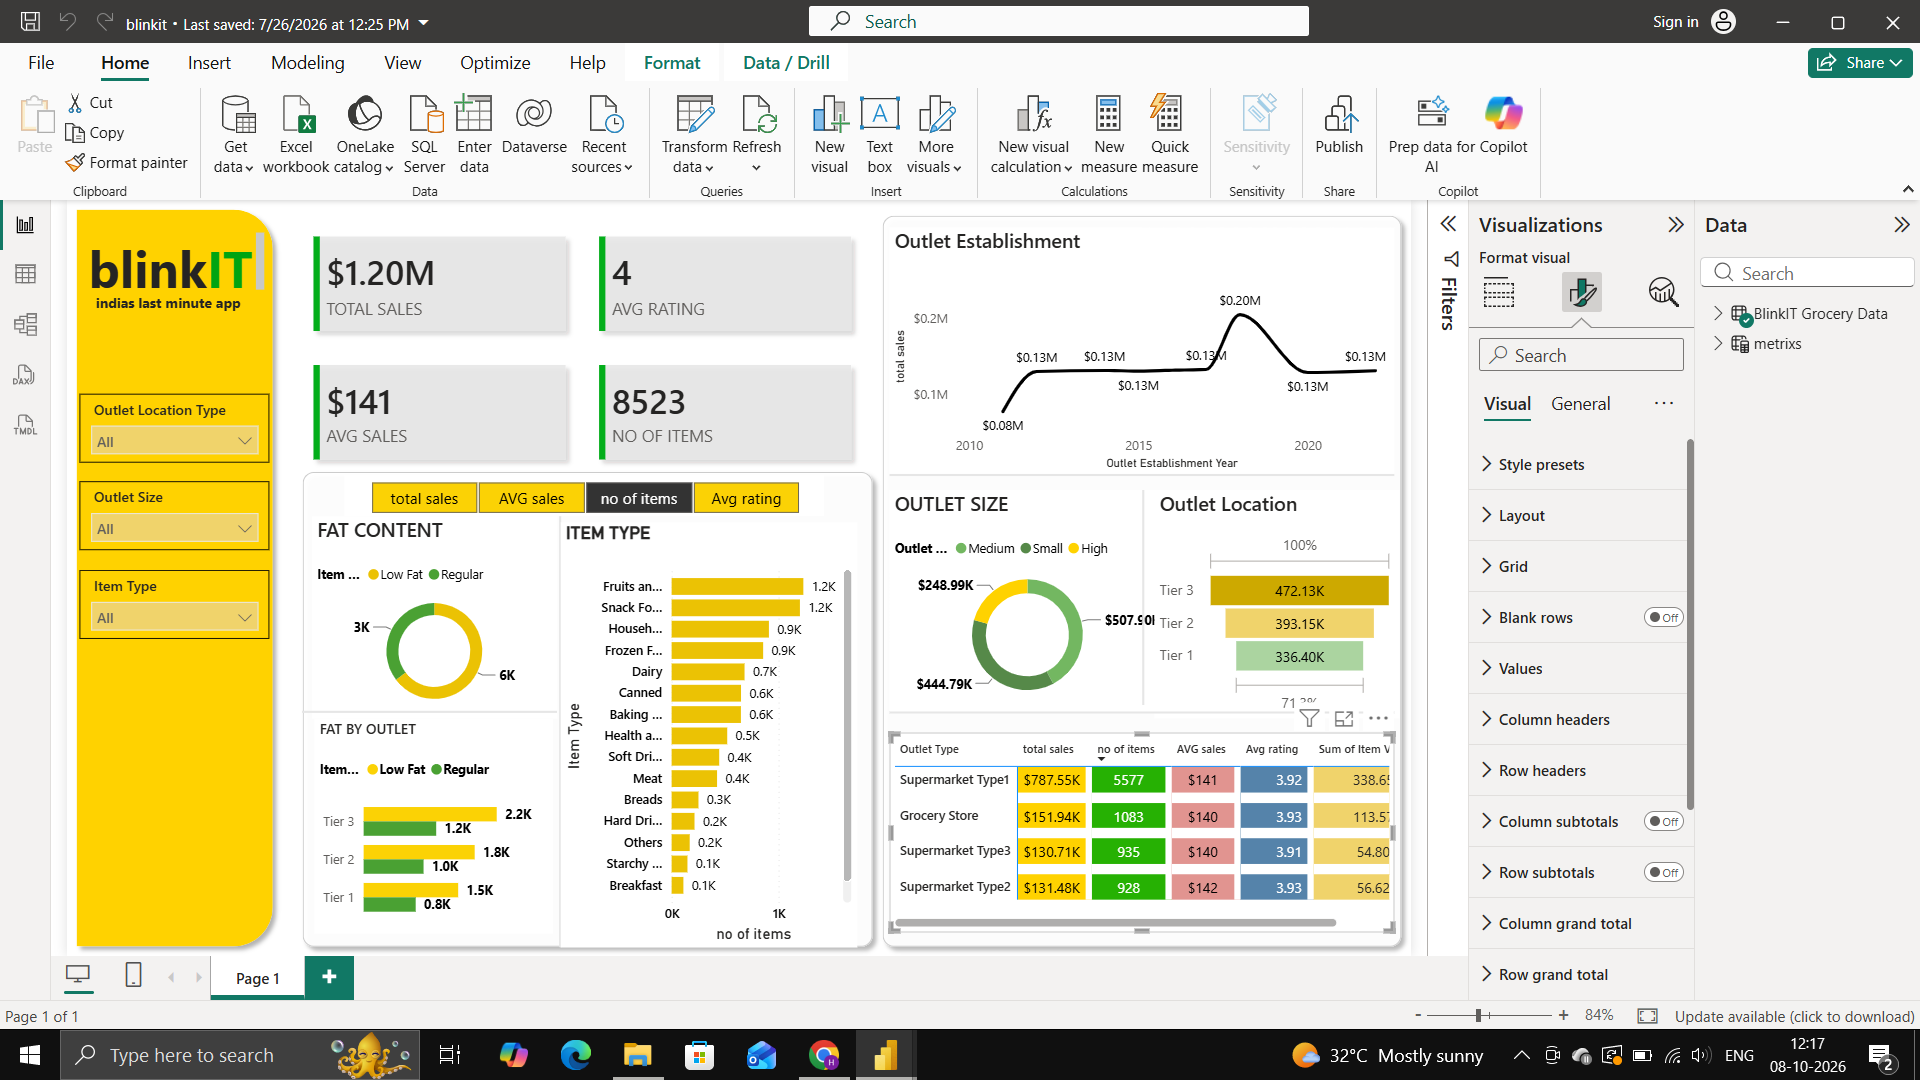

Layout of this report page (visuals, bound fields, positions):
{"tool":"powerbi","page":{"name":"Page 1","canvas":[1280,720],"ordinal":0},"visuals":[{"type":"shape","box":[0,0,205,720],"z":0},{"type":"textbox","box":[261.9,636.9,229.8,83.3],"z":1000},{"type":"textbox","box":[261.9,432.1,229.8,204.8],"z":2000},{"type":"textbox","box":[11.9,26.2,181,69],"z":3000},{"type":"textbox","box":[0,83.3,192.9,57.1],"z":4000},{"type":"cardVisual","fields":{"Data":["BlinkIT Grocery Data.total sales","BlinkIT Grocery Data.Avg rating","BlinkIT Grocery Data.AVG sales","BlinkIT Grocery Data.no of items"]},"box":[206,6,570,270],"z":5000},{"type":"shape","box":[215.5,250,560.7,470.2],"z":6000},{"type":"donutChart","title":"FAT CONTENT","fields":{"Y":["BlinkIT Grocery Data.no of items"],"Category":["BlinkIT Grocery Data.Item Fat Content"]},"box":[233.3,301.2,233.3,192.9],"z":7000},{"type":"slicer","fields":{"Values":["metrixs.metrixs"]},"box":[264.3,261.9,457.1,39.3],"z":8000},{"type":"clusteredBarChart","title":"FAT BY OUTLET","fields":{"Y":["BlinkIT Grocery Data.no of items"],"Category":["BlinkIT Grocery Data.Outlet Location Type"],"Series":["BlinkIT Grocery Data.Item Fat Content"]},"box":[235.7,494.1,227.4,204.8],"z":9000},{"type":"shape","box":[223.8,481,242.9,13.1],"z":10000},{"type":"shape","box":[458.3,301.2,22.6,410.7],"z":11000},{"type":"barChart","title":"ITEM TYPE","fields":{"Y":["BlinkIT Grocery Data.no of items"],"Category":["BlinkIT Grocery Data.Item Type"]},"box":[470.2,307.1,282.1,404.8],"z":12000},{"type":"shape","box":[767.9,6,511.9,714.3],"z":13000},{"type":"lineChart","title":" Outlet Establishment","fields":{"Category":["BlinkIT Grocery Data.Outlet Establishment Year"],"Y":["BlinkIT Grocery Data.total sales"]},"box":[783.3,26.2,481,235.7],"z":14000},{"type":"donutChart","title":"OUTLET SIZE","fields":{"Y":["BlinkIT Grocery Data.total sales"],"Category":["BlinkIT Grocery Data.Outlet Size"]},"box":[783.3,276.2,263.1,211.9],"z":15000},{"type":"shape","box":[1014.3,276.2,21.4,204.8],"z":16000},{"type":"funnel","title":" Outlet Location ","fields":{"Category":["BlinkIT Grocery Data.Outlet Location Type"],"Y":["Sum(BlinkIT Grocery Data.Sales)"]},"box":[1035.7,276.2,233.3,217.9],"z":17000},{"type":"shape","box":[783.3,233.3,481,57.1],"z":18000},{"type":"shape","box":[783.3,459.5,481,57.1],"z":19000},{"type":"pivotTable","fields":{"Rows":["BlinkIT Grocery Data.Outlet Type"],"Values":["BlinkIT Grocery Data.total sales","BlinkIT Grocery Data.no of items","BlinkIT Grocery Data.AVG sales","BlinkIT Grocery Data.Avg rating","Sum(BlinkIT Grocery Data.Item Visibility)"]},"box":[783.3,507.1,481,190.5],"z":20000},{"type":"slicer","fields":{"Values":["BlinkIT Grocery Data.Outlet Location Type"]},"box":[11.9,184.5,181,65.5],"z":21000},{"type":"slicer","fields":{"Values":["BlinkIT Grocery Data.Outlet Size"]},"box":[11.9,267.9,181,65.5],"z":22000},{"type":"slicer","fields":{"Values":["BlinkIT Grocery Data.Item Type"]},"box":[11.9,352.4,181,65.5],"z":23000}]}

Visuals, with their boxes on the page's 1280x720 design canvas (x1, y1, x2, y2). These are canvas units, not pixel positions in the 1920x1080 screenshot, which may show the page scaled, cropped or inside an application window:
shape: 0:0:205:720
textbox: 262:637:492:720
textbox: 262:432:492:637
textbox: 12:26:193:95
textbox: 0:83:193:140
cardVisual - BlinkIT Grocery Data.total sales x BlinkIT Grocery Data.Avg rating: 206:6:776:276
shape: 216:250:776:720
"FAT CONTENT" donutChart: 233:301:467:494
slicer - metrixs.metrixs: 264:262:721:301
"FAT BY OUTLET" clusteredBarChart: 236:494:463:699
shape: 224:481:467:494
shape: 458:301:481:712
"ITEM TYPE" barChart: 470:307:752:712
shape: 768:6:1280:720
" Outlet Establishment" lineChart: 783:26:1264:262
"OUTLET SIZE" donutChart: 783:276:1046:488
shape: 1014:276:1036:481
" Outlet Location " funnel: 1036:276:1269:494
shape: 783:233:1264:290
shape: 783:460:1264:517
pivotTable - BlinkIT Grocery Data.Outlet Type x BlinkIT Grocery Data.total sales: 783:507:1264:698
slicer - BlinkIT Grocery Data.Outlet Location Type: 12:184:193:250
slicer - BlinkIT Grocery Data.Outlet Size: 12:268:193:333
slicer - BlinkIT Grocery Data.Item Type: 12:352:193:418
